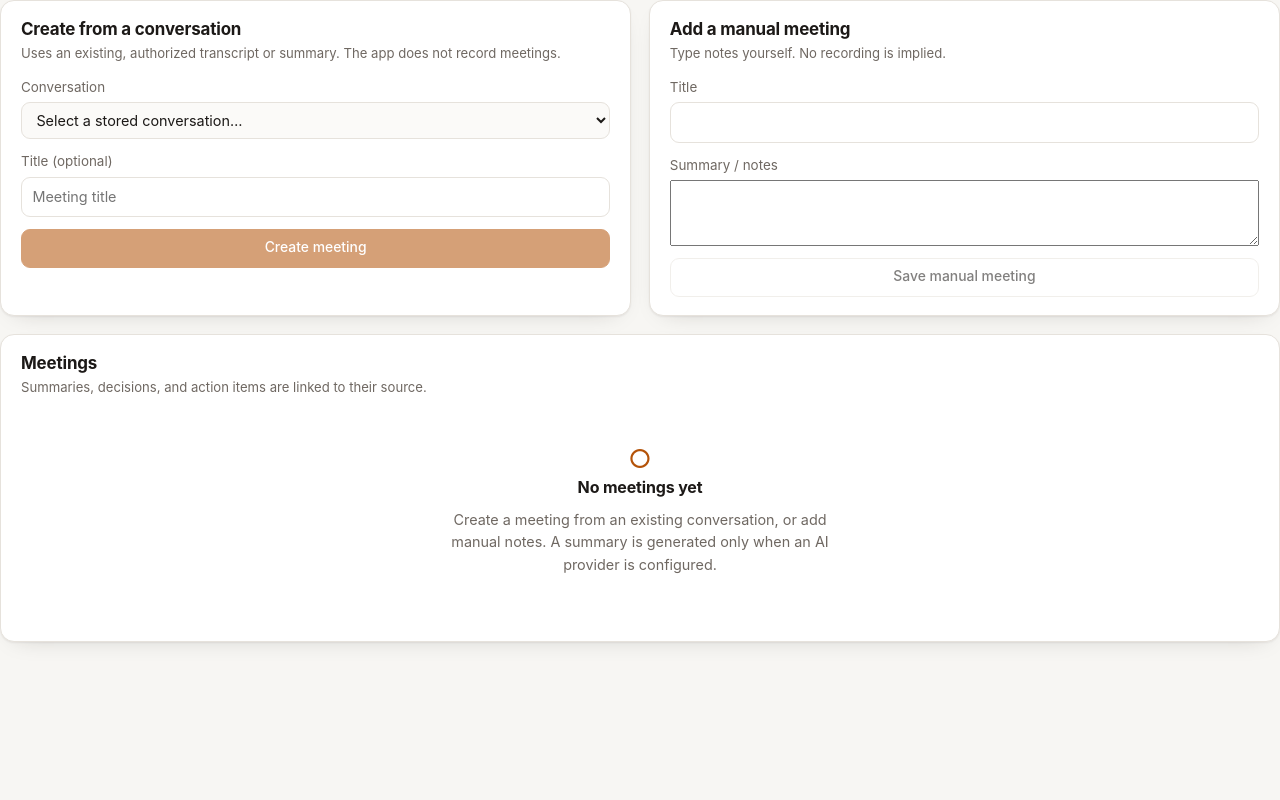
Test: Meetings page › creates a meeting from a stored conversation
Expected: the heading "No meetings yet" is shown, [578, 477, 702, 497]
Select "Roadmap planning" in the dropdown at (316, 121), box [21, 102, 610, 139]
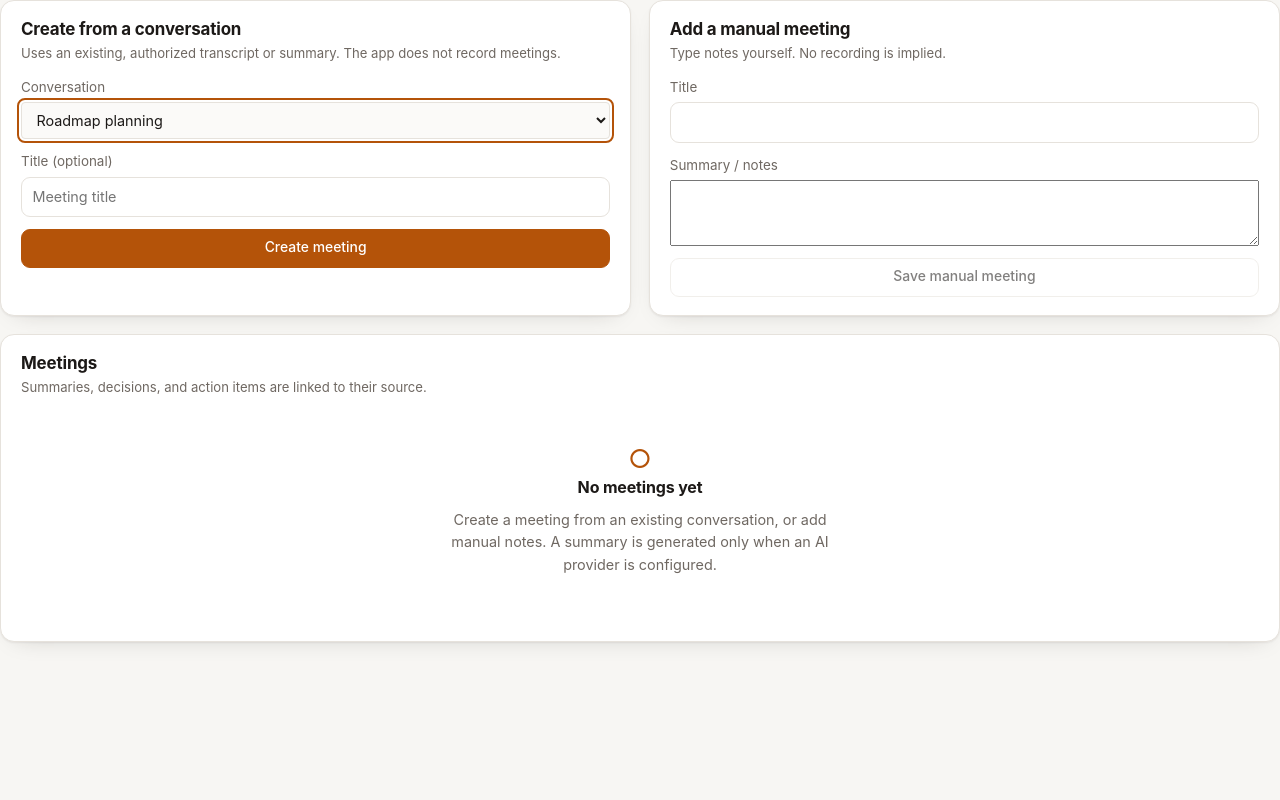
Click the button "Create meeting" at (316, 248), box [21, 229, 610, 268]
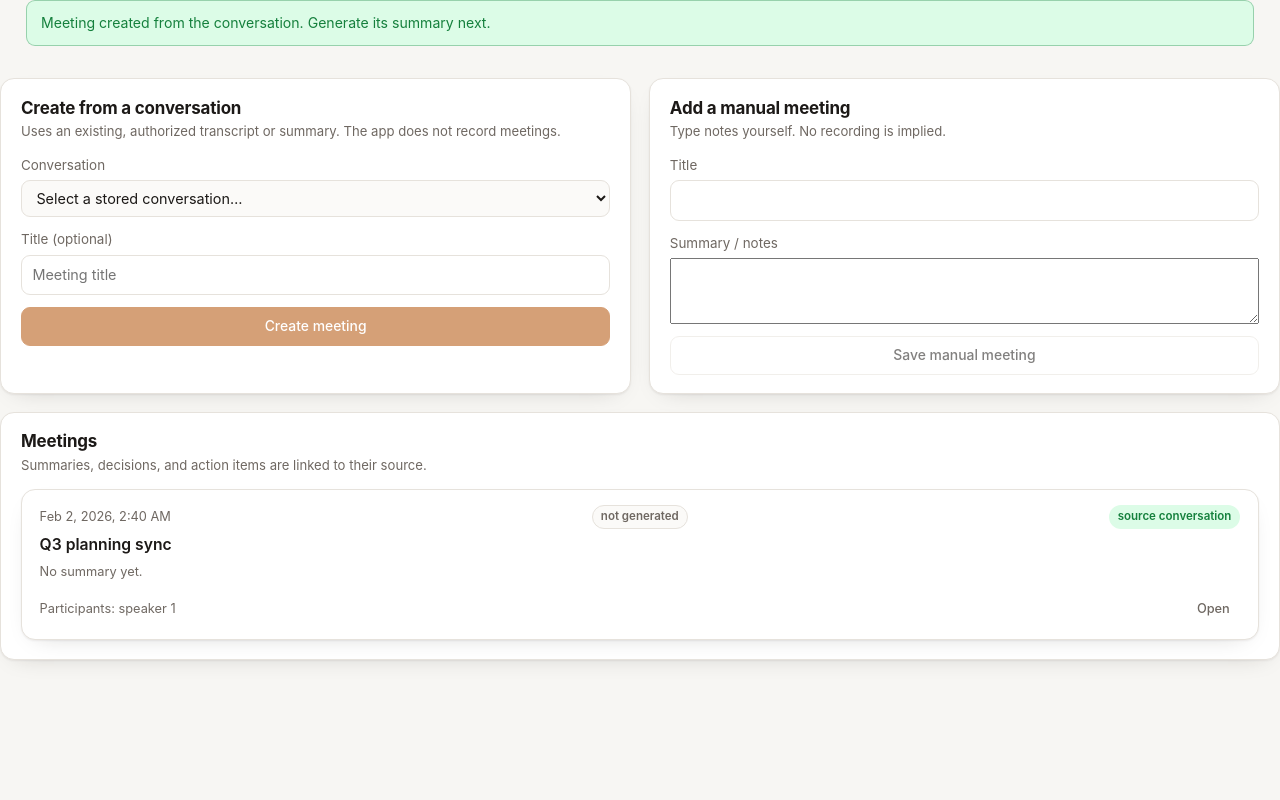
Expected: the link "Q3 planning sync" is shown, [40, 535, 172, 554]
Expected: the text "Participants: speaker 1" is shown, [40, 598, 176, 618]
